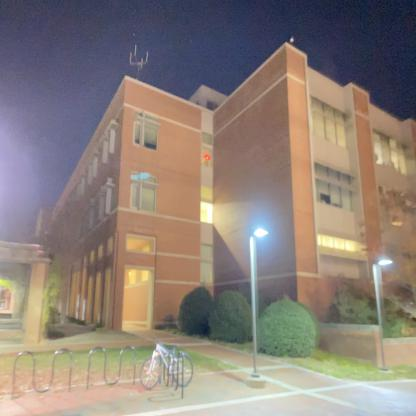eb3: (45, 46, 415, 341)
